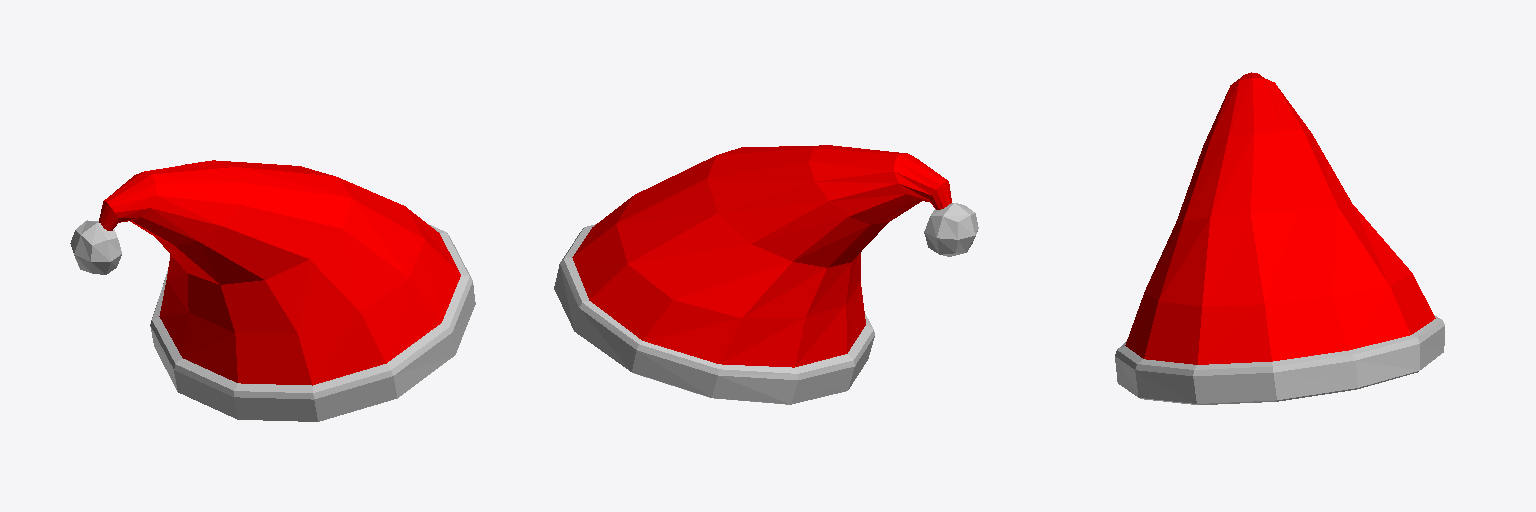
The model's file is christmas_basic.sgm.obj.
The picture shows the model from 3 angles: view 1: azimuth 30°, elevation 25°; view 2: azimuth 150°, elevation 25°; view 3: azimuth 270°, elevation 25°; orthographic projection.
Visible parts, largest first — view 1: 1, 0; view 2: 1, 0; view 3: 1, 0.
Part boxes in pixels (bbox=[...]): 1: bbox=[99, 160, 460, 385]; 0: bbox=[70, 220, 475, 421]; 1: bbox=[572, 145, 951, 367]; 0: bbox=[554, 203, 978, 404]; 1: bbox=[1125, 72, 1435, 364]; 0: bbox=[1115, 315, 1444, 404].
Bounding box in the file's own units: 0.5956 × 0.3522 × 0.4379.